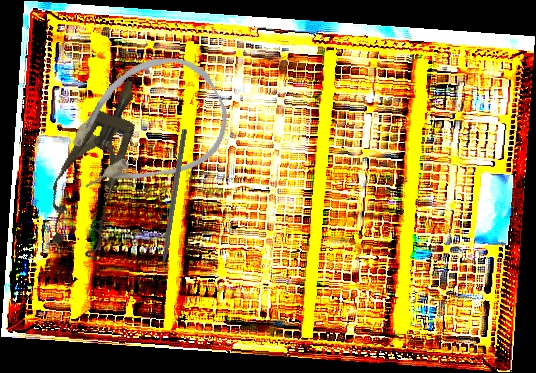Cannula: (46, 37, 244, 216)
Hook Surgical: (155, 128, 188, 285)
Speculum: (34, 68, 162, 262)
